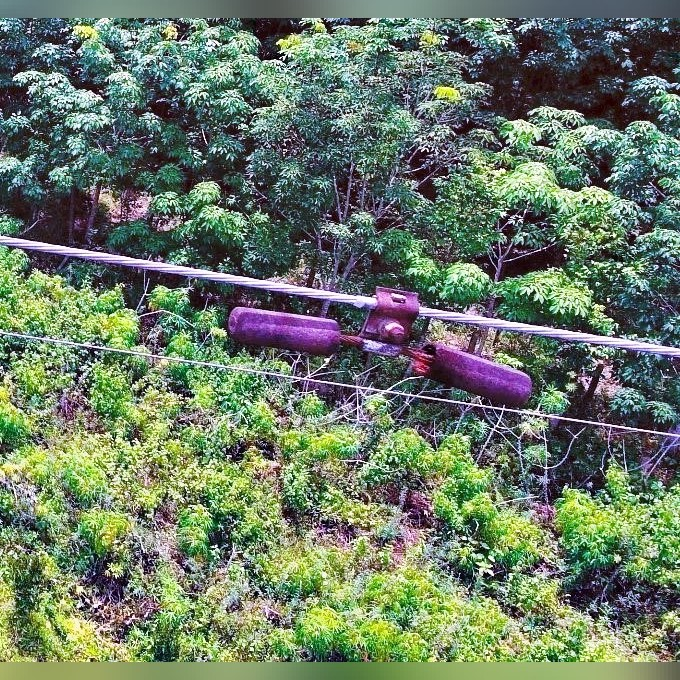Shockproof hammer: (216, 268, 542, 410)
